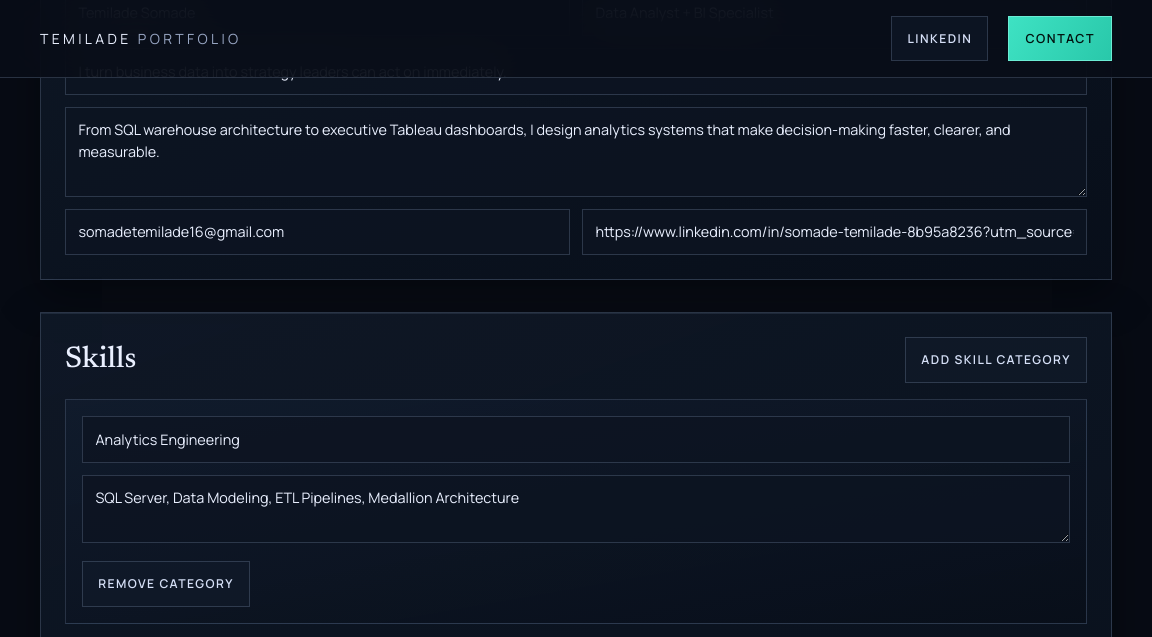
Scenario: StudioPage › opens add skill modal and saves a new category
(page scrolled)
Step 1. Click the button "Add Skill Category" → click(996, 360), box [905,337,1087,383]
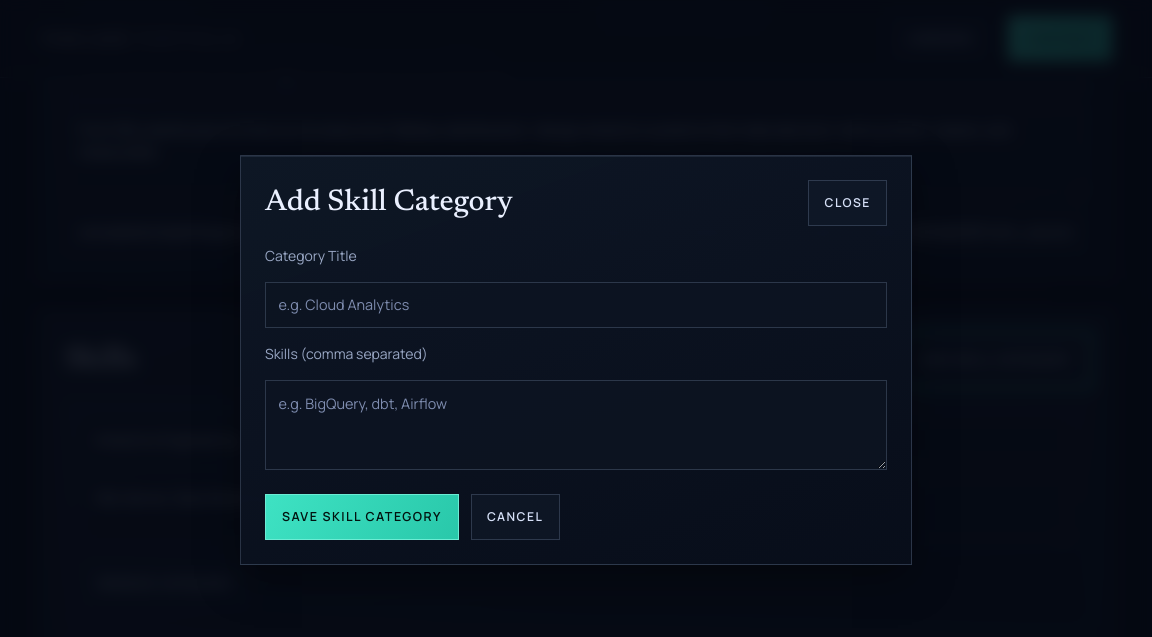
Result: the heading "Add Skill Category" is shown at [265,185,513,221]
Step 2. Type "New Skill Category testing" into the field labelled "Category Title" → (576, 305), box [265,282,887,328]
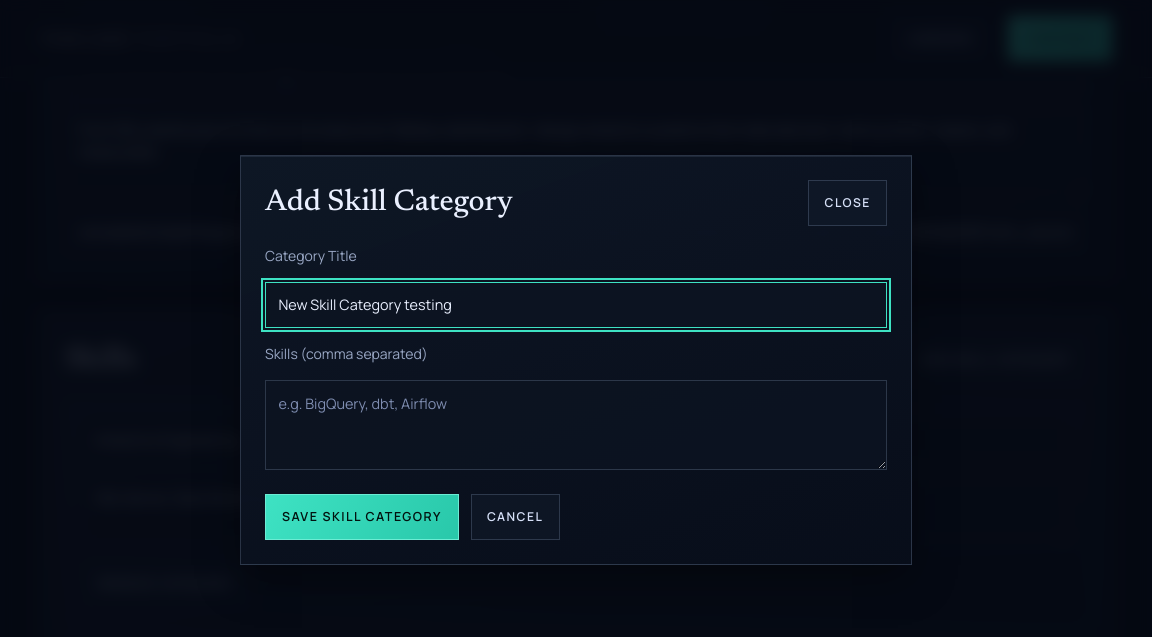
Step 3. Type "New Skill" into the text box labelled "Skills (comma separated)" → (576, 425), box [265,380,887,470]
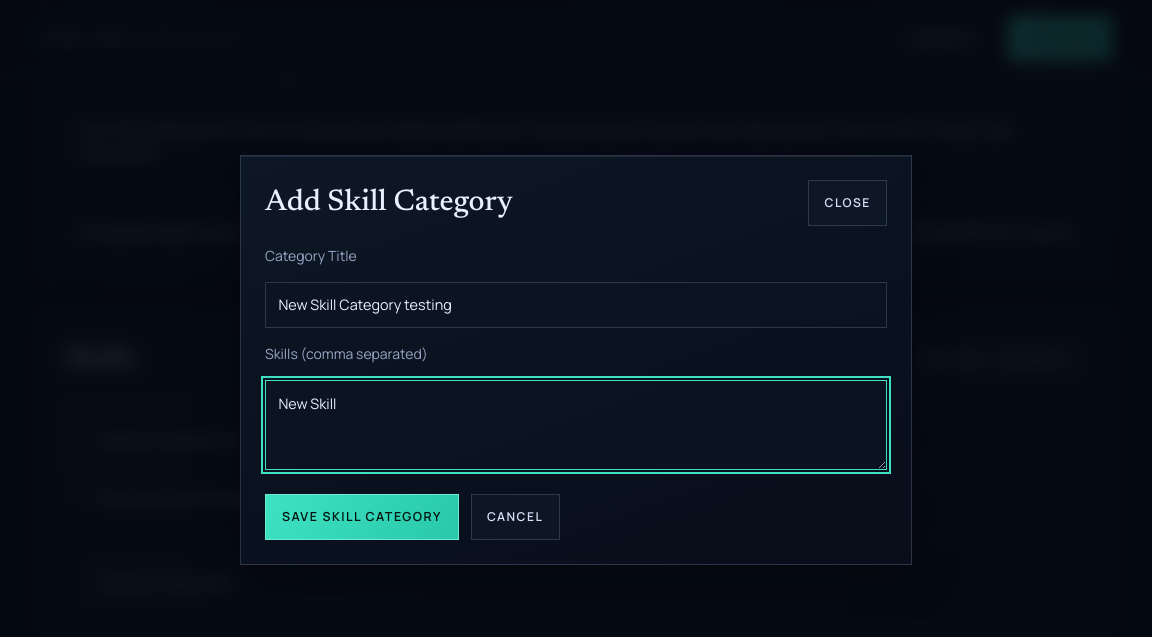
Step 4. Click the button "Save Skill Category" → click(362, 517), box [265,494,459,540]
(page scrolled)
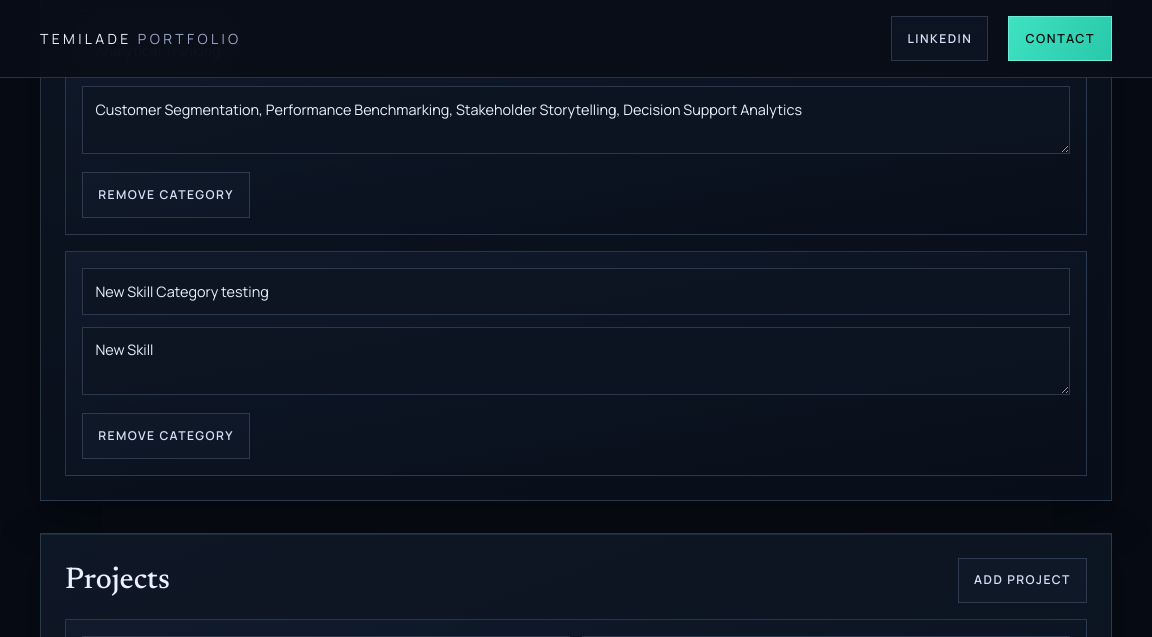
Result: the 1st field showing "New Skill Category testing" is shown at [82,268,1070,315]
Result: the 2nd text box showing "New Skill" is shown at [82,327,1070,395]
